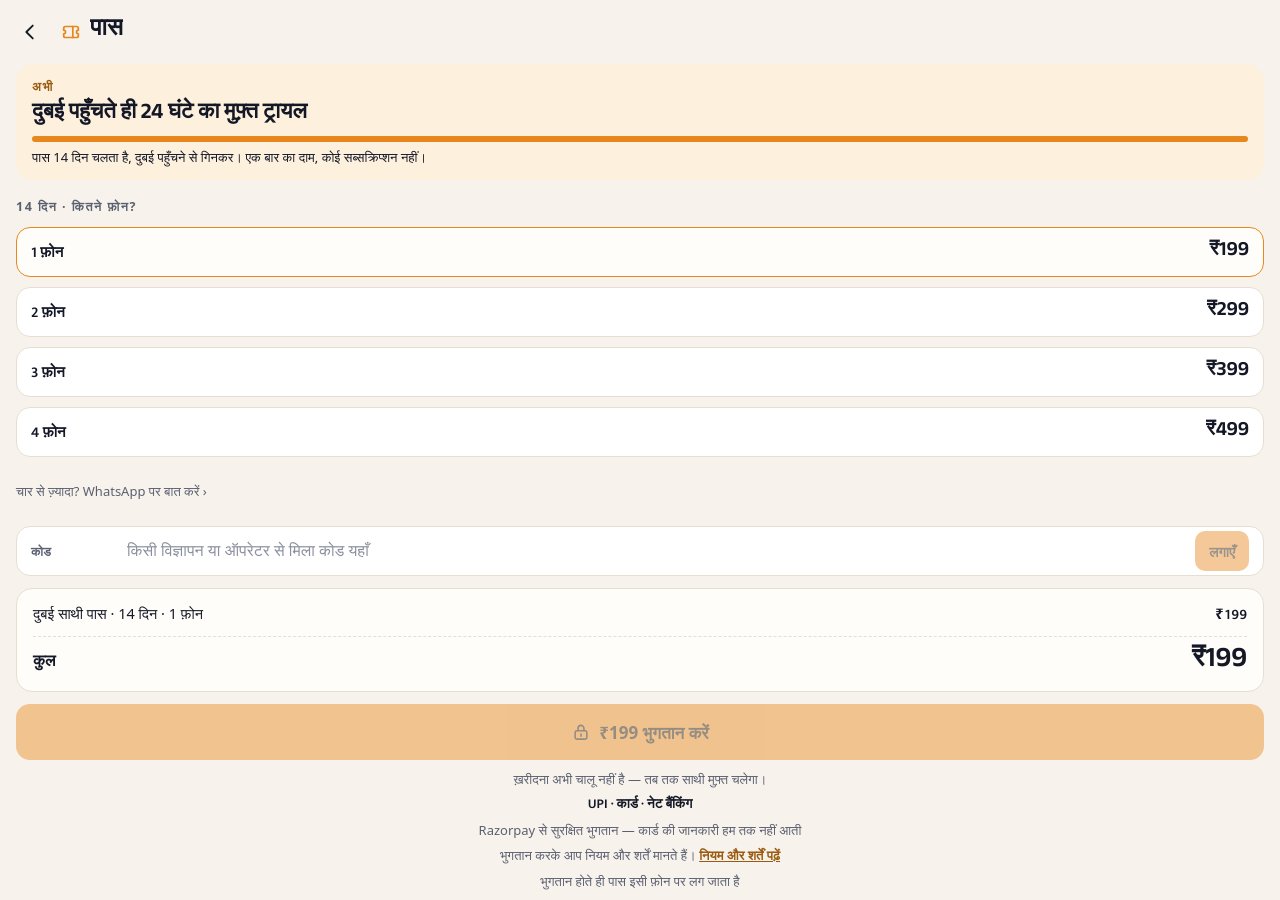
Test: घर.4 › shows the four phone counts at list price and a total of ₹199 before any code
Expected: the button "1 फ़ोन ₹199" is shown, [16,227,1264,277]
Expected: the button "2 फ़ोन ₹299" is shown, [16,287,1264,337]
Click the button "3 फ़ोन ₹399" at (48, 372), box [16,347,1264,397]
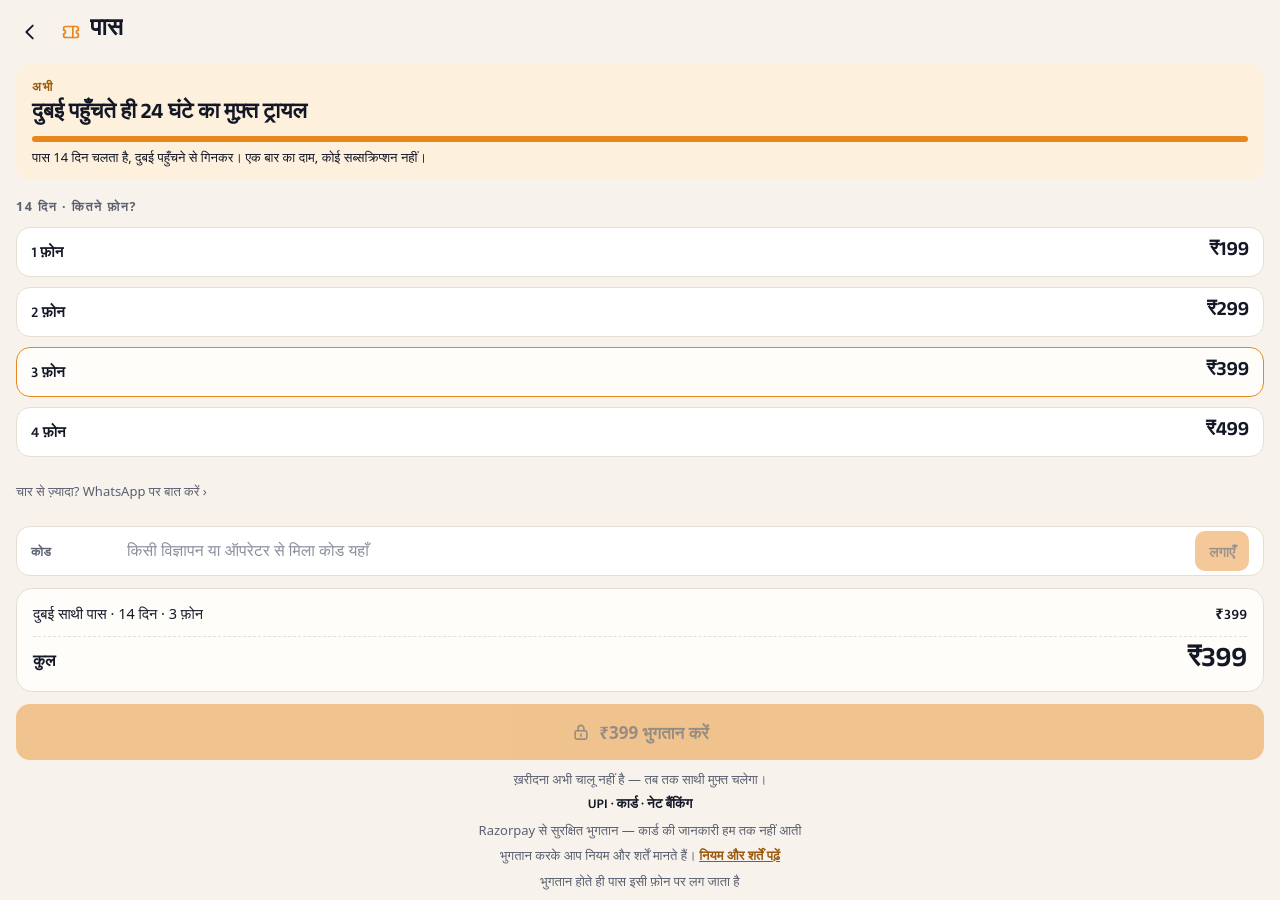
Expected: the button "₹399 भुगतान करें" is disabled, [16,704,1264,760]
Result: the text "₹399" in the row of "दुबई साथी पास · 14 दिन · 3 फ़ोन" is shown at [1215,605,1247,626]
